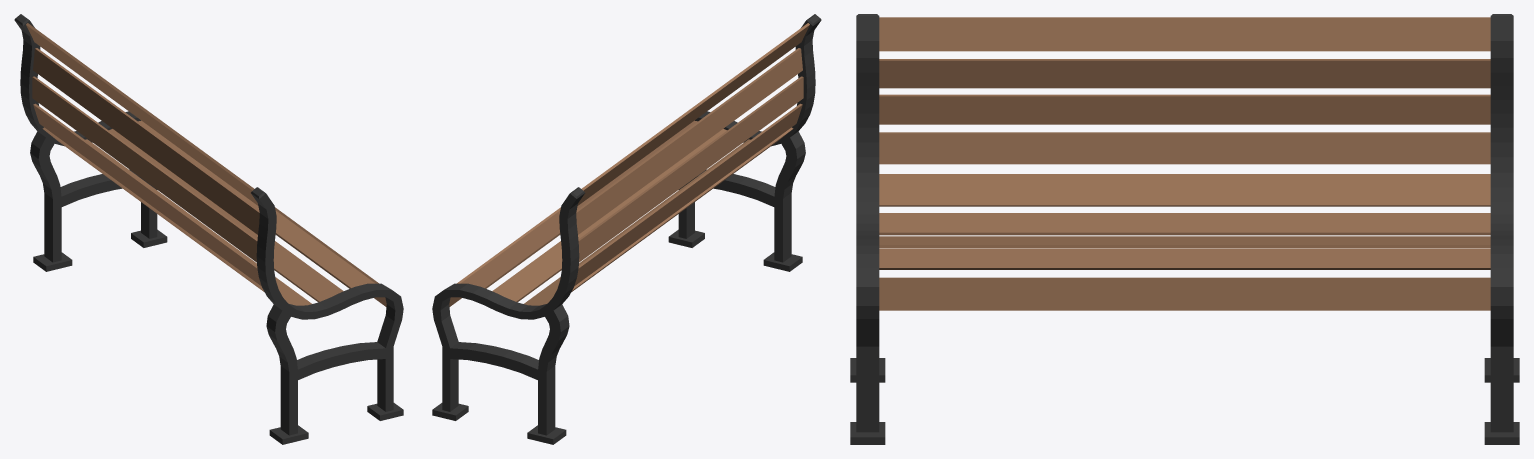
Rendered from BancaPlaza01.fbx.
3 views of the same model, side by side, from view 1: azimuth 30°, elevation 25°; view 2: azimuth 150°, elevation 25°; view 3: azimuth 270°, elevation 25° (orthographic). The views are drawn at different scales.
Visible parts, largest first — view 1: Banca01; view 2: Banca01; view 3: Banca01.
Part boxes in pixels (x1,y1,x2,y2): Banca01: (14, 14, 403, 444); Banca01: (432, 14, 821, 444); Banca01: (850, 14, 1519, 444).
Size of the model in its own units: 52.94 by 88.97 by 158.
